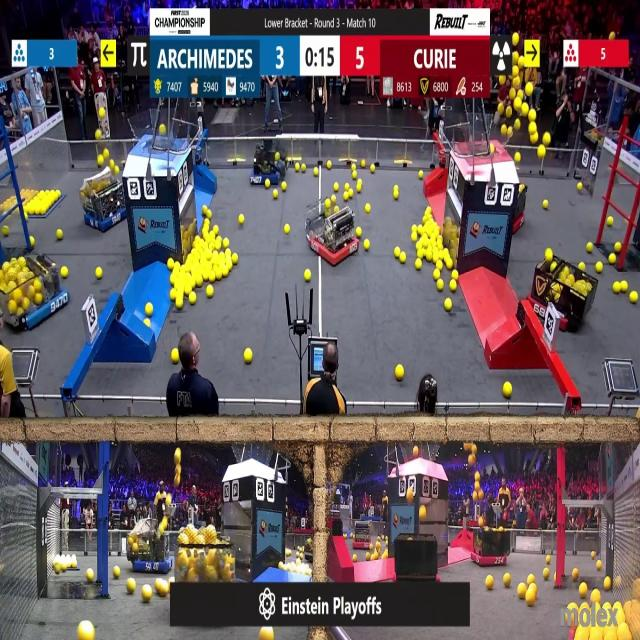ball_airborne: (174, 449, 182, 464), (544, 248, 552, 261), (542, 133, 549, 147), (162, 518, 169, 532), (525, 85, 533, 97), (522, 103, 530, 115), (513, 33, 520, 46), (529, 124, 537, 135), (538, 146, 545, 158), (413, 447, 420, 459), (515, 99, 523, 109), (529, 110, 536, 121), (531, 134, 538, 145), (513, 66, 520, 77), (99, 107, 106, 118), (499, 74, 506, 85), (166, 494, 172, 506), (518, 56, 524, 68), (469, 445, 476, 455), (98, 157, 105, 167), (514, 54, 520, 65), (514, 77, 521, 86), (516, 118, 522, 128), (516, 152, 522, 162), (511, 90, 517, 100), (161, 126, 167, 136), (506, 107, 512, 117), (506, 126, 512, 136), (96, 131, 102, 141), (490, 144, 495, 156), (479, 519, 485, 529), (500, 126, 507, 134), (175, 477, 180, 488), (498, 104, 503, 114), (468, 455, 473, 465), (609, 33, 615, 41), (472, 492, 477, 500), (104, 149, 109, 157), (474, 471, 478, 480), (474, 482, 478, 490)
ball_ground: (81, 623, 96, 640), (262, 628, 275, 640), (142, 587, 152, 602), (526, 591, 536, 606), (160, 582, 170, 597), (502, 382, 511, 398), (128, 580, 137, 595), (395, 364, 403, 380), (172, 349, 180, 364), (419, 507, 427, 522), (518, 585, 526, 599), (592, 590, 601, 602), (245, 349, 252, 364), (578, 585, 586, 598), (503, 573, 510, 587), (450, 280, 458, 292), (630, 290, 638, 302), (206, 285, 214, 297), (188, 292, 196, 304), (486, 576, 494, 588), (611, 282, 619, 294), (88, 568, 95, 581), (113, 566, 120, 578), (170, 288, 177, 300), (604, 576, 610, 590), (197, 277, 204, 289), (621, 282, 629, 292), (146, 304, 152, 317), (305, 271, 312, 282), (596, 263, 603, 274), (176, 300, 183, 311), (2, 225, 9, 236), (97, 268, 103, 280), (446, 300, 452, 312), (439, 280, 445, 292), (356, 180, 362, 192), (571, 568, 578, 578), (435, 262, 442, 272), (363, 240, 369, 251), (609, 253, 615, 264), (233, 253, 239, 264), (588, 242, 594, 253), (168, 261, 174, 272), (62, 268, 68, 279), (209, 272, 215, 283), (348, 189, 356, 197), (452, 271, 459, 280), (363, 204, 370, 213), (215, 241, 222, 250), (426, 252, 433, 261), (58, 231, 64, 241), (284, 223, 290, 233), (416, 261, 422, 271), (399, 252, 405, 262), (541, 200, 547, 210), (222, 239, 228, 249), (394, 247, 400, 257), (616, 243, 622, 253), (542, 568, 548, 578), (606, 216, 612, 226), (596, 560, 602, 570), (30, 238, 36, 248), (216, 271, 222, 281), (72, 559, 78, 569), (204, 272, 210, 282), (170, 275, 176, 285), (302, 165, 309, 173), (433, 271, 439, 280), (528, 574, 534, 583), (356, 229, 362, 238), (222, 269, 228, 278), (266, 179, 272, 188), (417, 249, 423, 258), (418, 224, 424, 233), (239, 214, 244, 224), (413, 233, 418, 243), (448, 261, 453, 271), (203, 206, 208, 216), (327, 200, 332, 210), (363, 554, 370, 561), (314, 169, 320, 177), (335, 182, 341, 190), (294, 165, 300, 173), (213, 225, 219, 233), (370, 554, 376, 562), (224, 248, 230, 256), (569, 602, 575, 610), (419, 171, 424, 180), (274, 189, 279, 198), (278, 562, 284, 569), (576, 183, 581, 191), (393, 190, 398, 198), (369, 166, 374, 174), (413, 224, 418, 232), (145, 319, 150, 327), (579, 264, 584, 272), (352, 172, 357, 180), (360, 161, 365, 169), (326, 163, 331, 171), (416, 241, 421, 249), (345, 190, 349, 199), (345, 183, 350, 190), (520, 183, 525, 190), (205, 218, 210, 225), (351, 165, 356, 172), (282, 182, 286, 190), (353, 555, 357, 563), (545, 556, 549, 564), (208, 210, 212, 218), (426, 207, 430, 215), (331, 194, 335, 202), (592, 552, 596, 560), (114, 168, 118, 175)
goal: (128, 114, 187, 154), (460, 117, 513, 158)
robot_blue: (0, 253, 68, 333), (81, 171, 127, 232), (128, 529, 172, 574), (251, 139, 289, 185)
robot_red: (530, 257, 596, 331), (307, 203, 358, 266), (473, 526, 513, 567), (351, 520, 373, 548)
